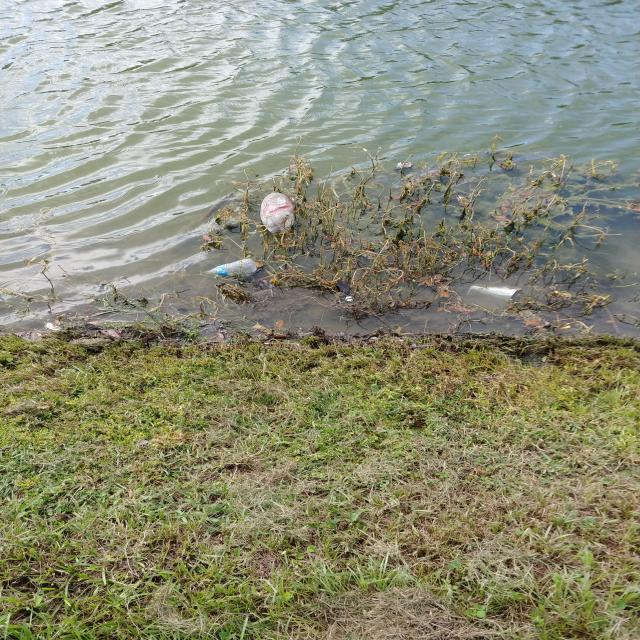litter: (259, 188, 299, 236)
